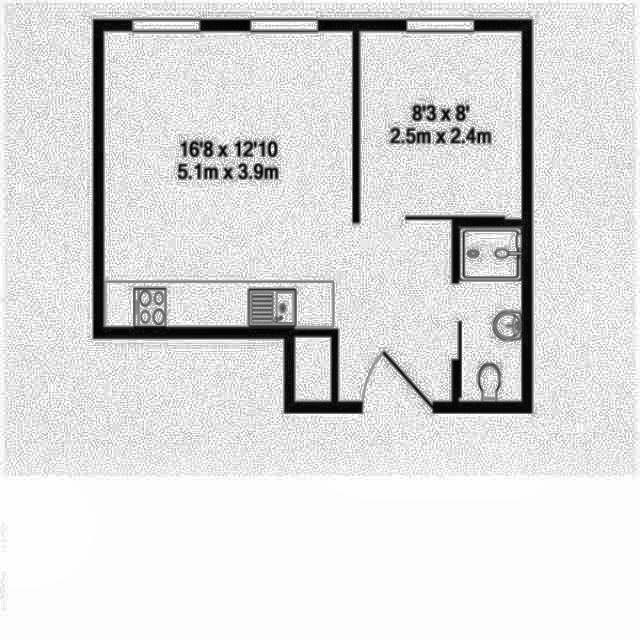room: (101, 30, 451, 402), (359, 30, 523, 217), (460, 229, 523, 400), (295, 336, 332, 401)
